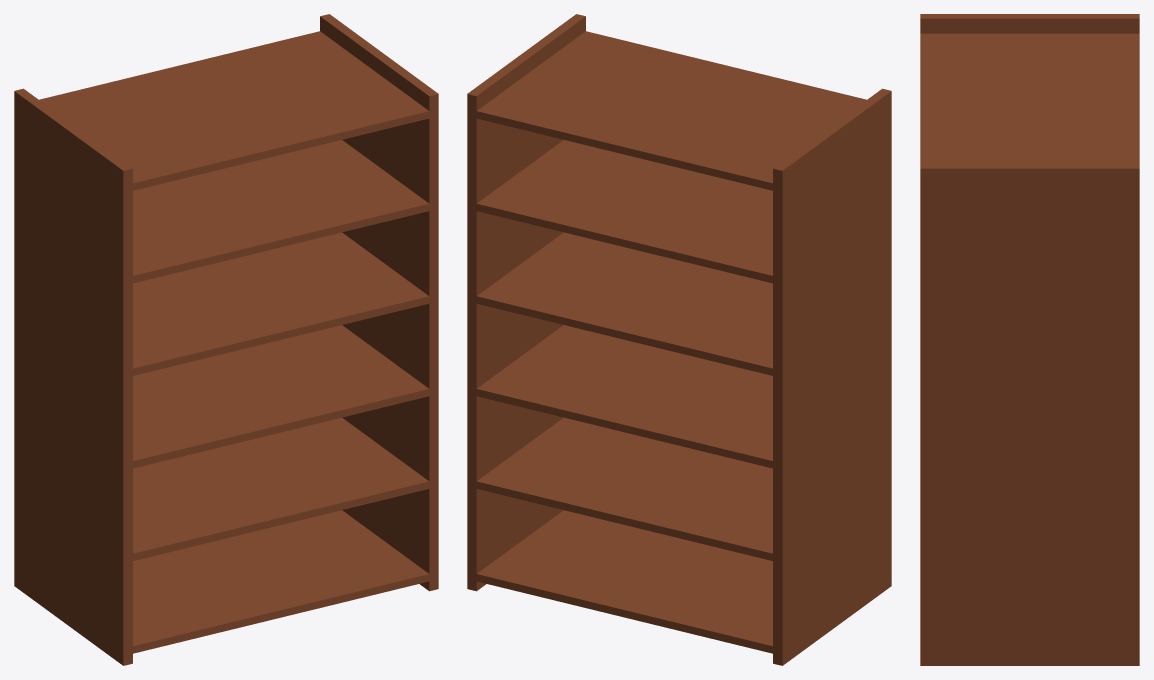
File: hondana.gltf
3 views of the same model, side by side, from view 1: azimuth 30°, elevation 25°; view 2: azimuth 150°, elevation 25°; view 3: azimuth 270°, elevation 25° (orthographic).
Visible parts, largest first — view 1: Shelves1; view 2: Shelves1; view 3: Shelves1.
Boxes of the visible parts, x1,y1,x2,y2 form: Shelves1: (14, 14, 438, 665); Shelves1: (467, 14, 891, 665); Shelves1: (920, 14, 1139, 665).
Bounding box in the file's own units: 2 × 3 × 1.2.
